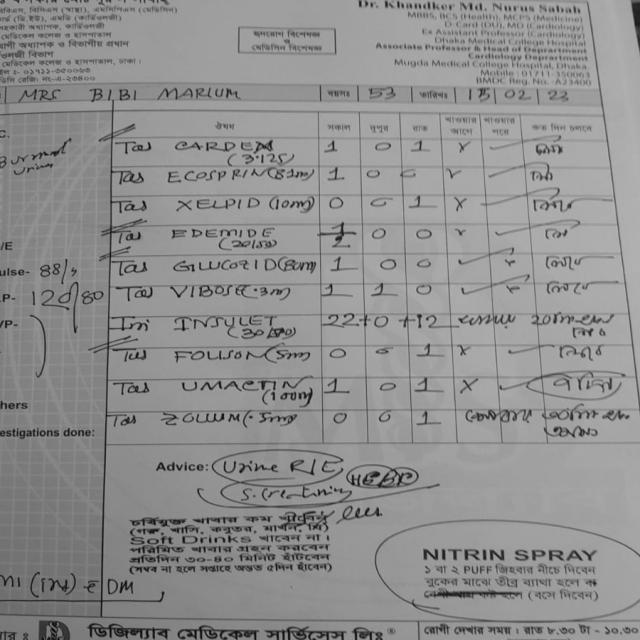medicine: (172, 377, 314, 397), (168, 255, 284, 278), (166, 312, 282, 334), (160, 166, 272, 188), (168, 346, 278, 368), (170, 194, 269, 218), (165, 224, 283, 244), (168, 136, 281, 156), (168, 282, 258, 304), (156, 410, 250, 429)
